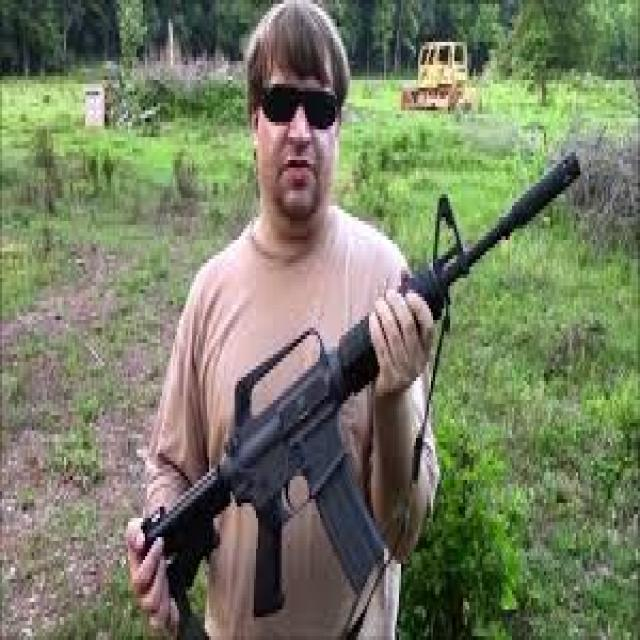m16: (188, 193, 562, 614)
